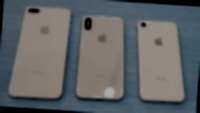iphone: (10, 11, 69, 104), (135, 17, 188, 99), (79, 16, 126, 100)
